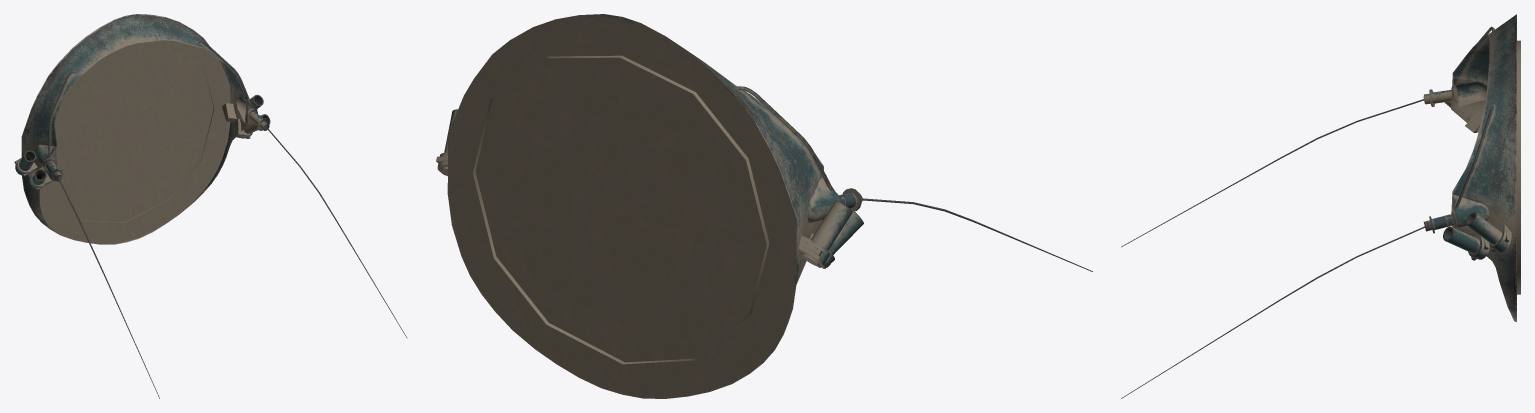
File: Turret_01.glb
3 renders of one model, left to right at view 1: azimuth 30°, elevation 25°; view 2: azimuth 150°, elevation 25°; view 3: azimuth 270°, elevation 25°, orthographic. The views are drawn at different scales.
Visible parts, largest first — view 1: set_0_group_0; view 2: set_0_group_0; view 3: set_0_group_0.
Part boxes in pixels (left/top/right/bottom): set_0_group_0: left=14, top=14, right=407, bottom=398; set_0_group_0: left=436, top=14, right=1092, bottom=398; set_0_group_0: left=1121, top=14, right=1520, bottom=398.
Size of the model in its own units: 2.01 by 1.84 by 2.24.
1 material, 1 textured.
